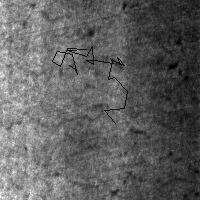crazing: (122, 41, 200, 199), (4, 83, 107, 198), (52, 46, 127, 123)
